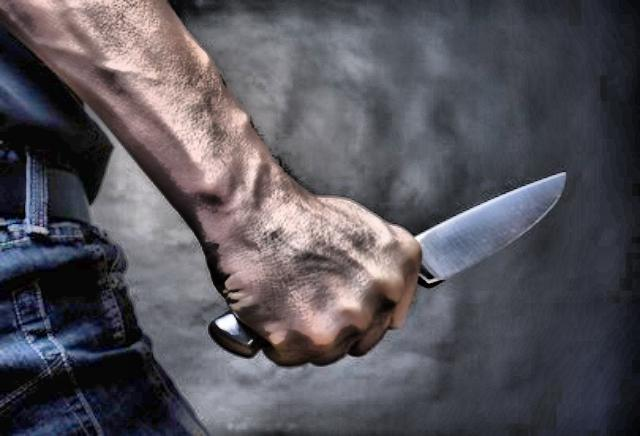knife: (266, 160, 574, 360)
